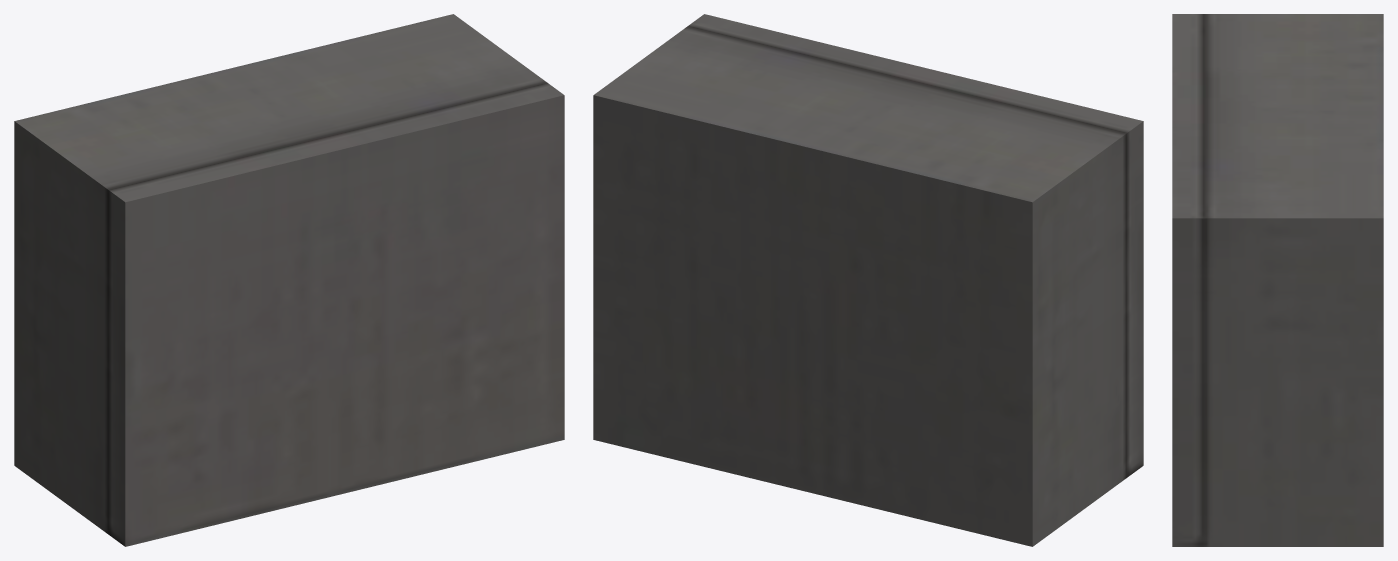
The model's file is frame__pivot_web.glb.
3 views of the same model, side by side, from view 1: azimuth 30°, elevation 25°; view 2: azimuth 150°, elevation 25°; view 3: azimuth 270°, elevation 25° (orthographic). The views are drawn at different scales.
Parts seen in each view (by area): view 1: world; view 2: world; view 3: world.
Boxes of the visible parts, left/top/right/bottom form: world: left=14, top=14, right=564, bottom=546; world: left=593, top=14, right=1143, bottom=546; world: left=1172, top=14, right=1383, bottom=546.
Size of the model in its own units: 0.08 by 0.06 by 0.035.
1 material, 1 textured.
